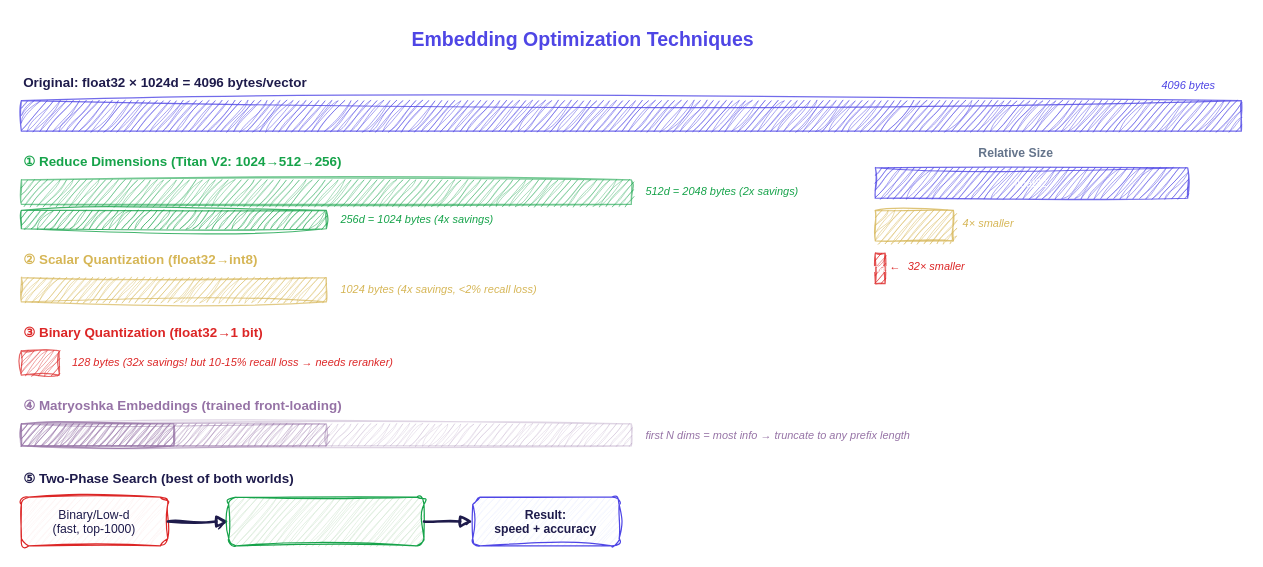
Some shapes in this 1263 by 567 pixel diagram are drawn without their labels. Here are the shapes that lost their labels. From the top down, the centre of each, then its label:
At [913,225]: "int8 (SQ)".
At [326,521]: "Full precision / Reranker (accurate, top-5)".
